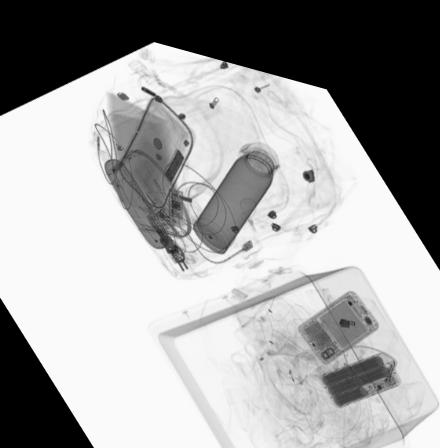Powerbank: (318, 331, 403, 391)
